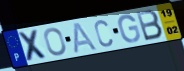A: (74, 21, 99, 54)
B: (135, 9, 165, 43)
C: (93, 19, 114, 49)
G: (117, 13, 142, 44)
O: (43, 27, 68, 57)
X: (17, 28, 50, 63)
